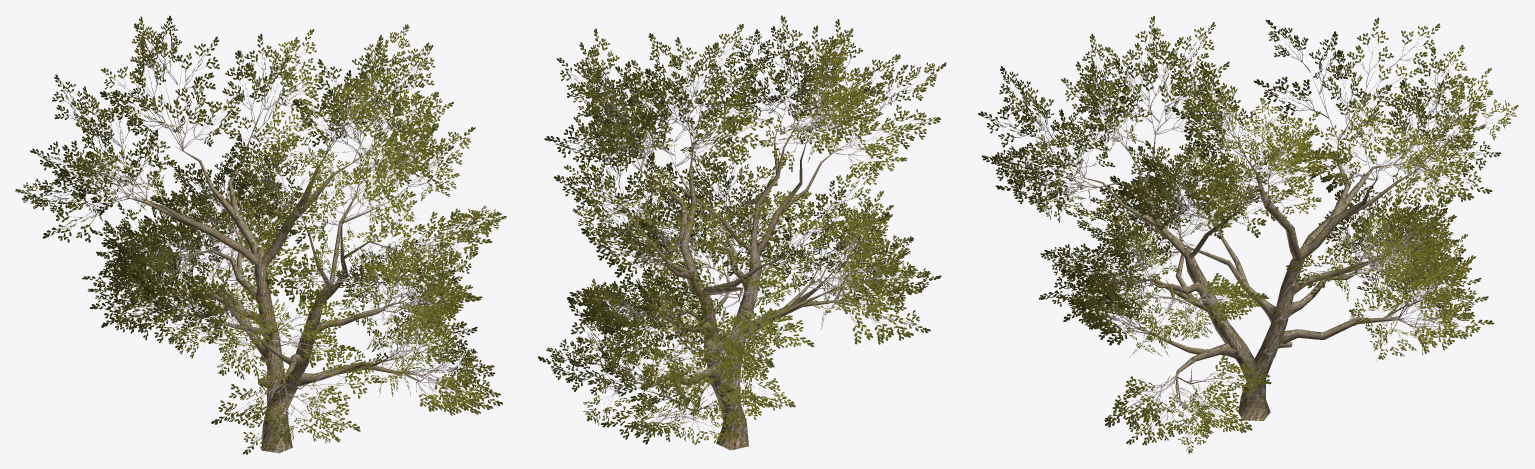
Rendered from SM_TreeOak.fbx.
3 views of the same model, side by side, from view 1: azimuth 30°, elevation 25°; view 2: azimuth 150°, elevation 25°; view 3: azimuth 270°, elevation 25° (orthographic).
Parts seen in each view (by area): view 1: SM_TreeOak_LOD0; view 2: SM_TreeOak_LOD0; view 3: SM_TreeOak_LOD0.
Boxes of the visible parts, x1,y1,x2,y2 form: SM_TreeOak_LOD0: [15, 15, 506, 454]; SM_TreeOak_LOD0: [538, 15, 946, 450]; SM_TreeOak_LOD0: [978, 16, 1518, 454].
Bounding box in the file's own units: 802 × 1060 × 824.
Materials: 3 (3 with a texture image).
